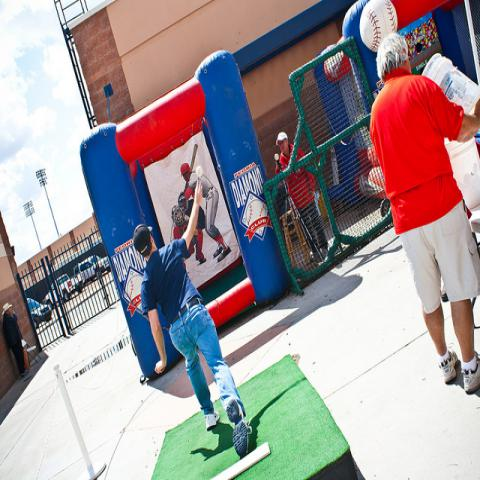car: (74, 254, 111, 278), (27, 296, 54, 326)
truck: (42, 272, 85, 309), (73, 256, 111, 288), (26, 298, 52, 328)
